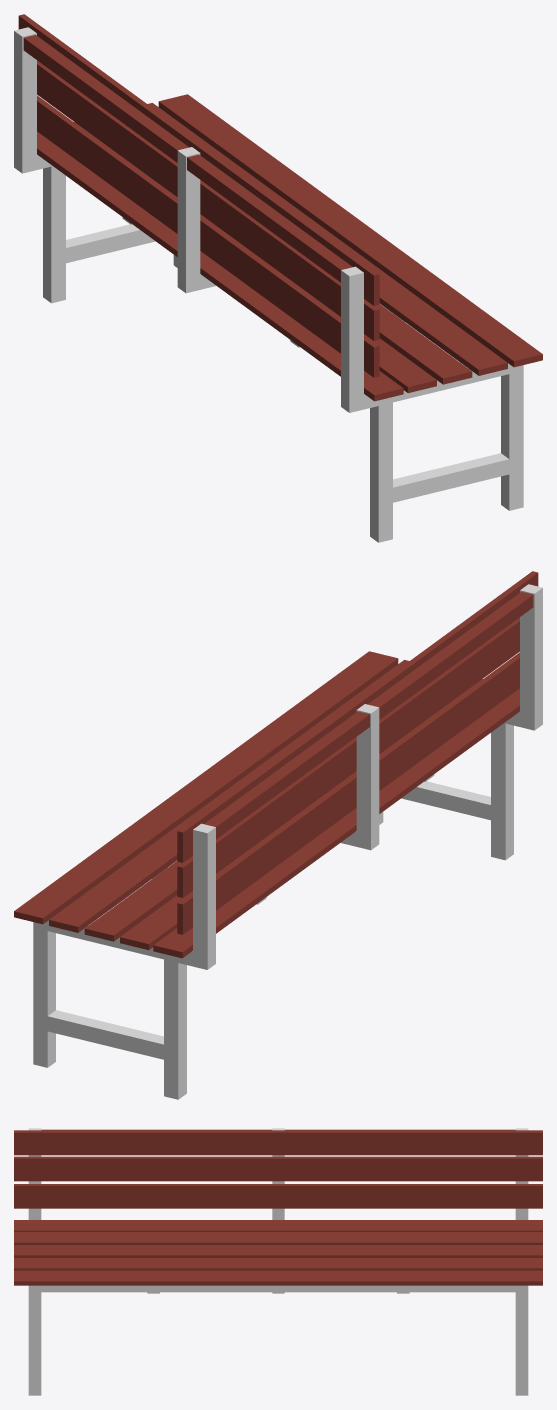
The model's file is Bench1.fbx.
3 renders of one model, top to bottom at view 1: azimuth 30°, elevation 25°; view 2: azimuth 150°, elevation 25°; view 3: azimuth 270°, elevation 25°, orthographic. The views are drawn at different scales.
Visible parts, largest first — view 1: Плоскость.002; view 2: Плоскость.002; view 3: Плоскость.002.
Part boxes in pixels (<box>): Плоскость.002: <box>14,14,542,542</box>; Плоскость.002: <box>14,571,542,1099</box>; Плоскость.002: <box>14,1128,542,1395</box>.
Bounding box in the file's own units: 63.2 × 91.44 × 212.
